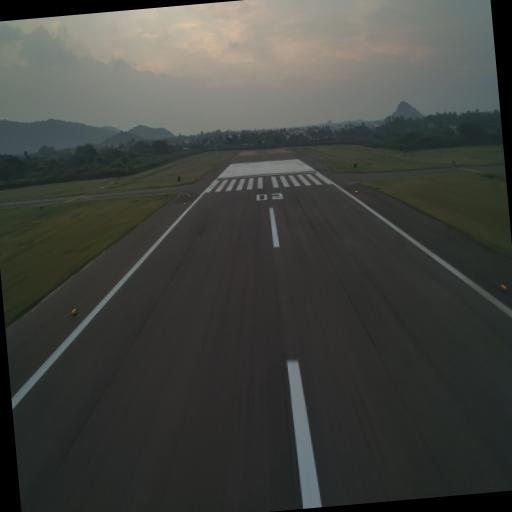on: (498, 278, 508, 295), (70, 304, 80, 318), (354, 187, 359, 196), (182, 200, 186, 206)
